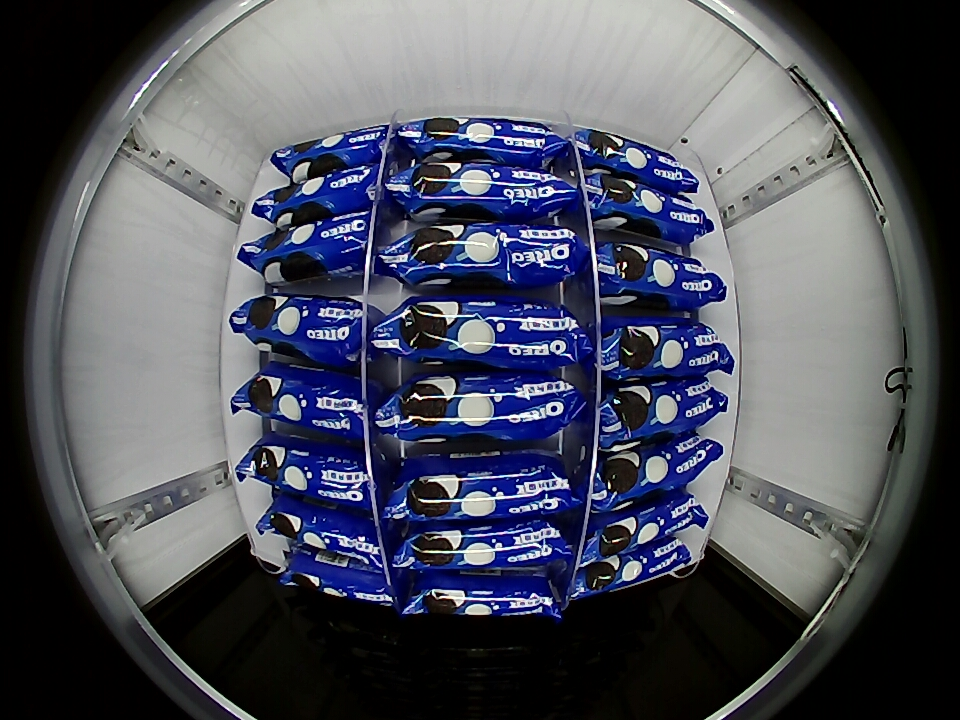aoliao: (377, 371, 585, 447), (385, 294, 589, 371), (391, 449, 575, 525), (404, 222, 586, 289), (402, 157, 579, 222), (239, 437, 375, 512), (599, 312, 733, 388), (401, 518, 571, 576), (597, 432, 725, 509), (245, 364, 369, 443), (248, 214, 384, 284), (254, 498, 384, 570), (598, 239, 728, 309), (399, 114, 570, 167), (400, 568, 567, 622), (601, 381, 730, 450), (249, 291, 367, 366), (590, 172, 714, 243), (580, 129, 702, 192), (577, 504, 709, 562), (258, 161, 381, 223), (275, 548, 396, 607), (579, 536, 691, 597), (273, 123, 389, 176)
